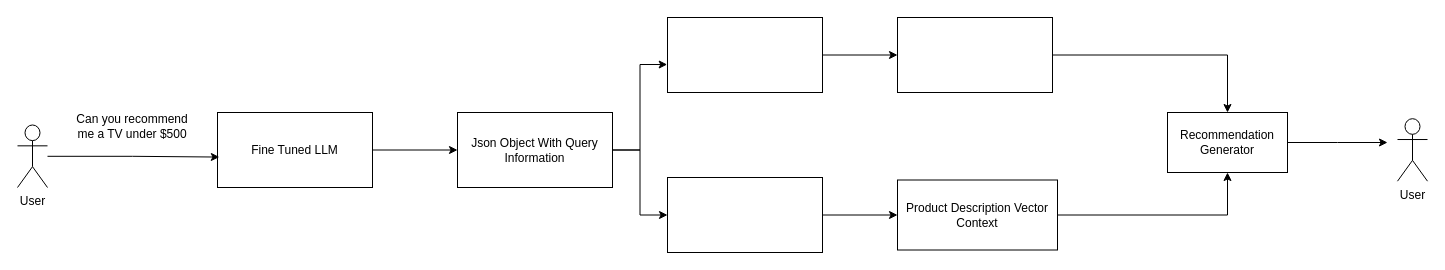
Some shapes in this 1445 by 270 pixel diagram are drawn without their labels. Each missing label, with the centre of its shape:
"Context Generator" goes at [744,214].
"Product Database" goes at [974,54].
"Query Generator" goes at [744,54].
